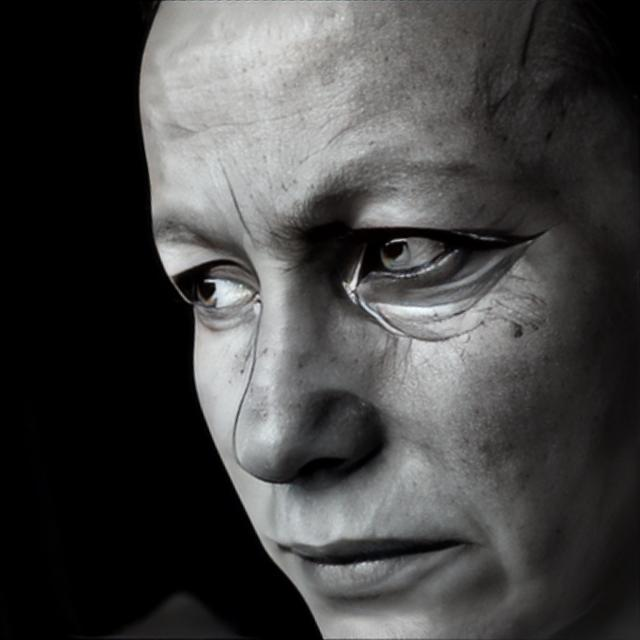sad: (135, 0, 640, 640)
